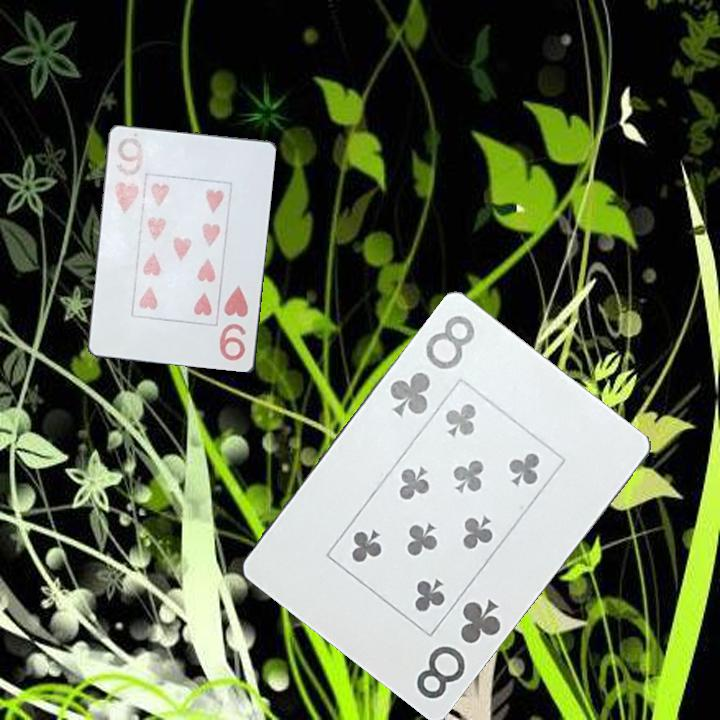8c: (386, 311, 479, 421), (412, 595, 505, 703)
9h: (110, 131, 148, 217), (216, 281, 251, 364)
